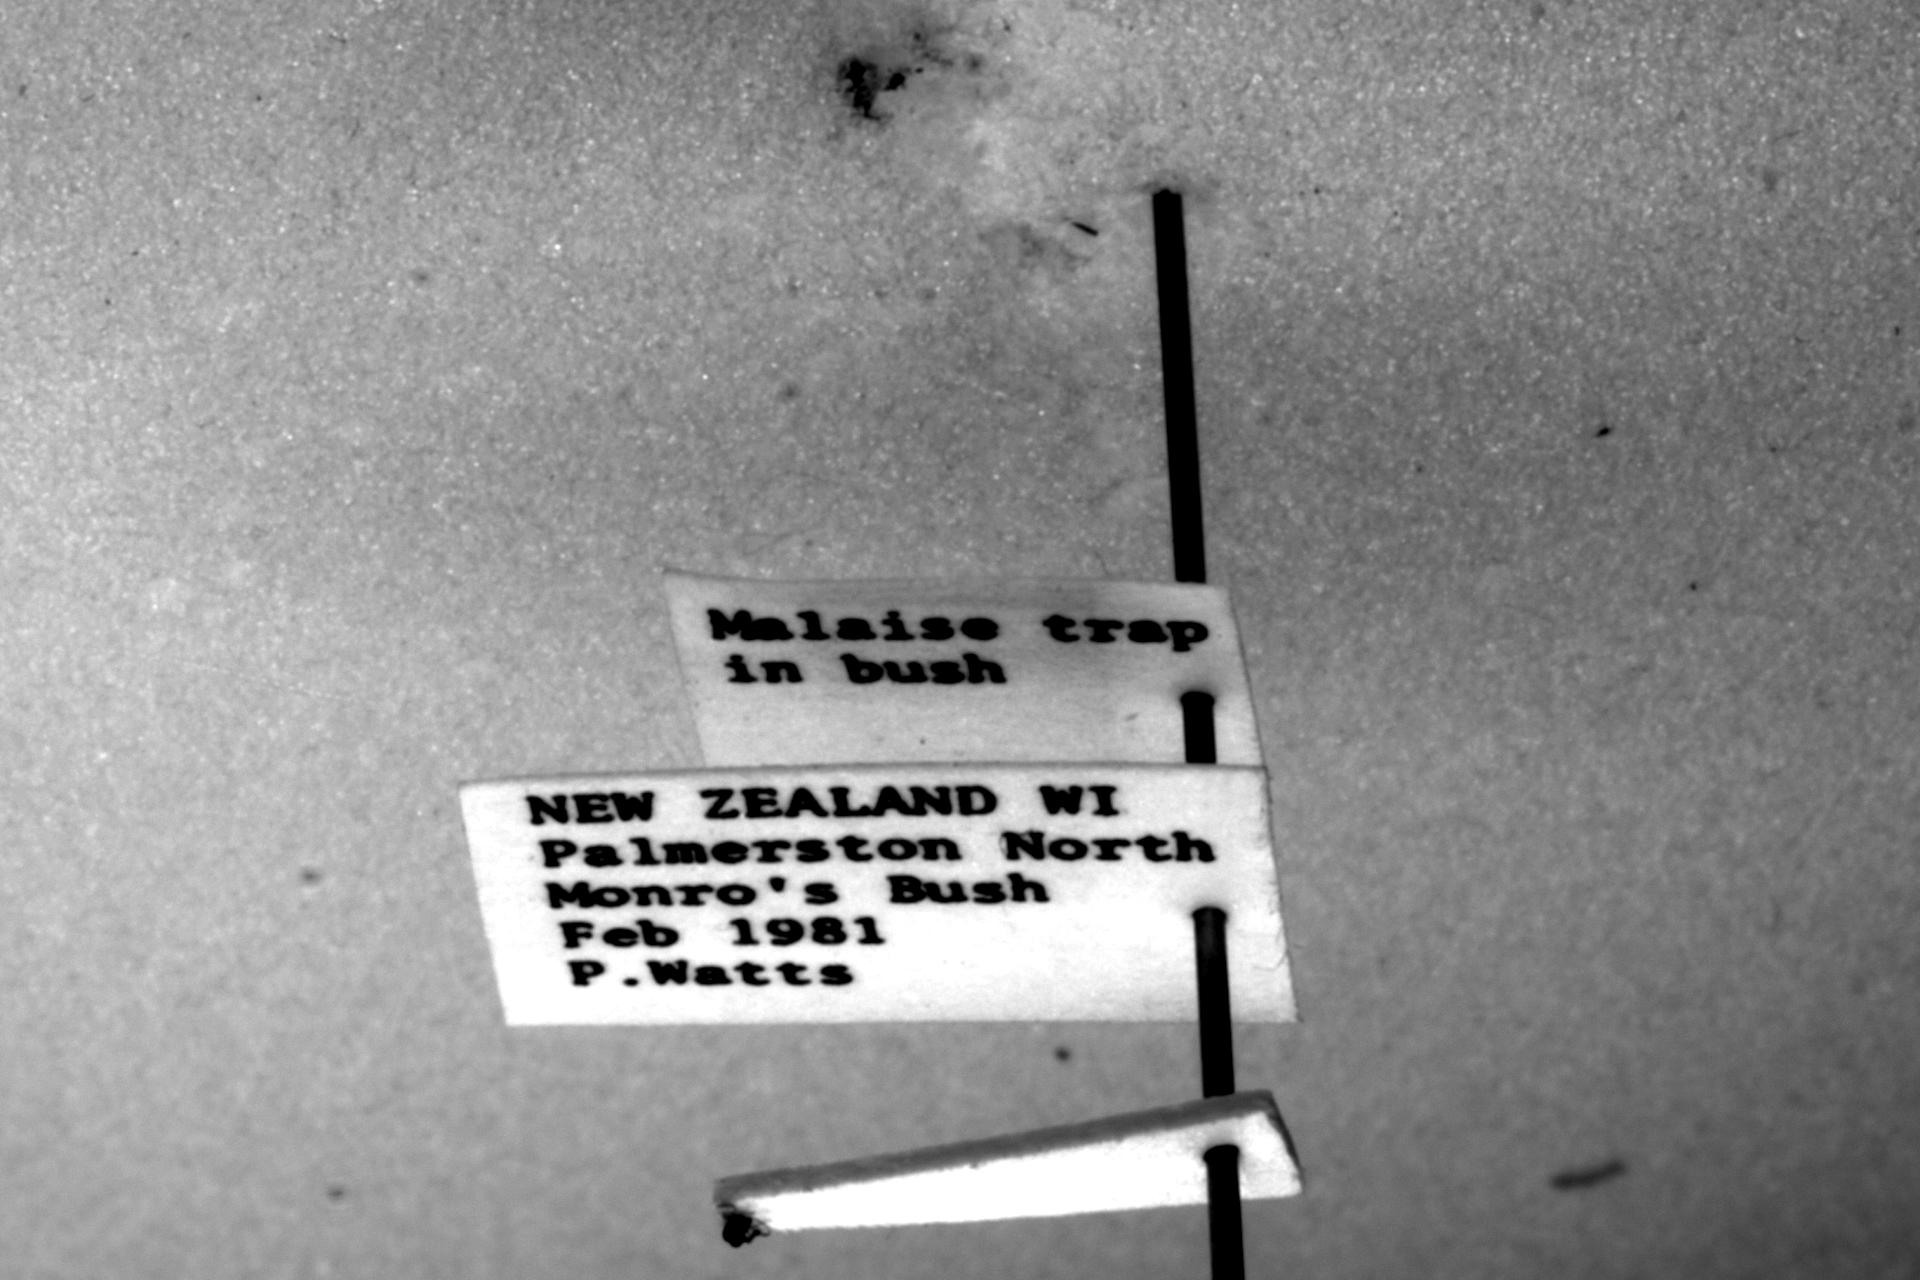typed_label: (461, 766, 1294, 1024), (664, 570, 1264, 766)
